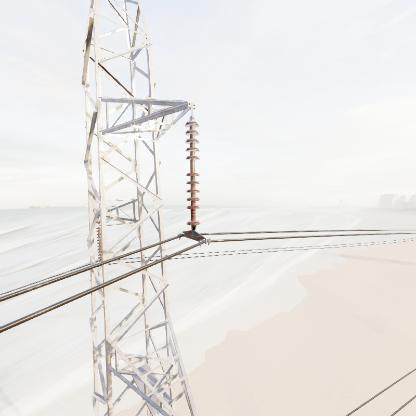insulator: (184, 116, 202, 236)
